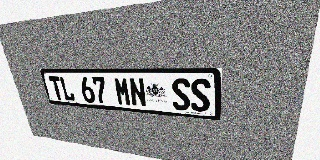6: (78, 77, 96, 103)
7: (91, 77, 109, 104)
L: (59, 76, 75, 101)
M: (113, 77, 132, 106)
N: (128, 77, 147, 107)
S: (190, 79, 210, 113), (171, 78, 190, 111)
T: (48, 76, 65, 101)
